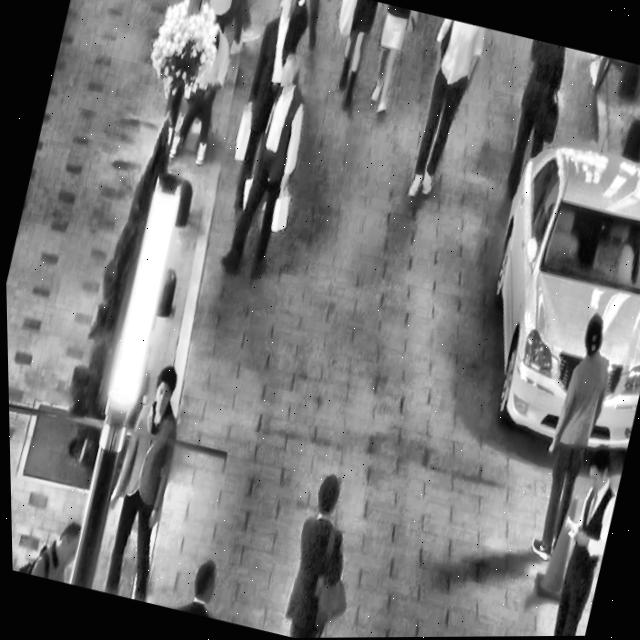light_vehicle: (447, 112, 640, 469)
